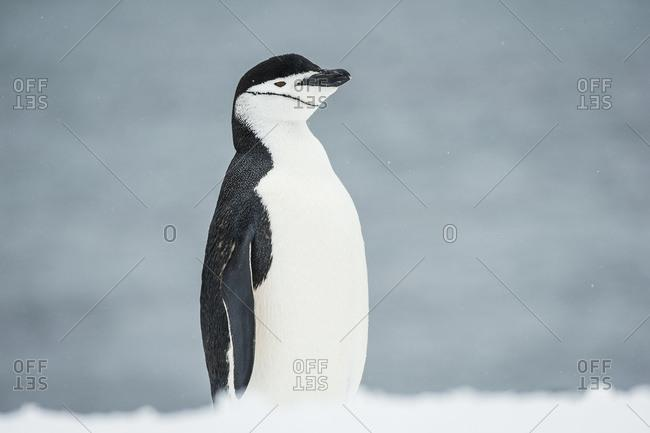chinstrap: (182, 37, 459, 433)
